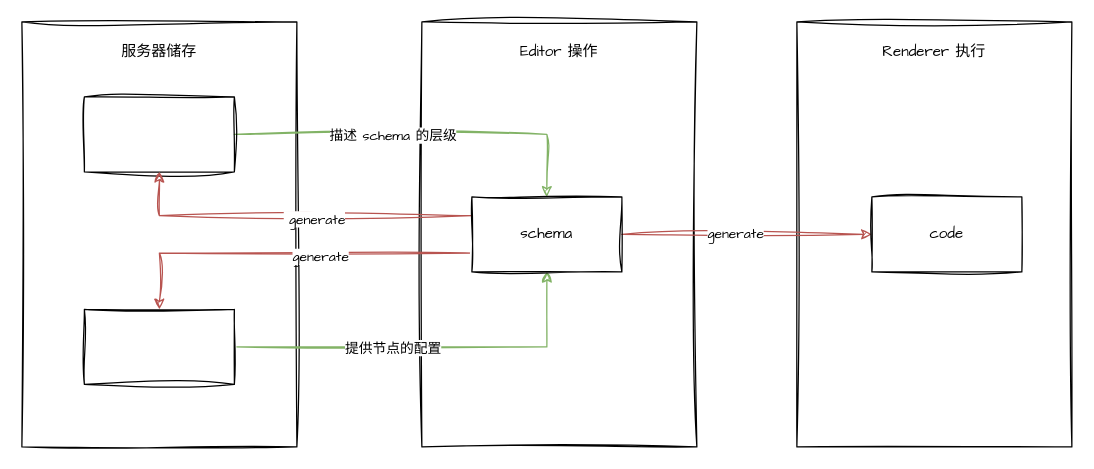
Image size: 1094x469. Some labels were removed from this diagram. The box of each missing label's shape, as (x1, y1, x2, y2) in pixels:
id tree: (83, 96, 234, 172)
nodes: (83, 308, 234, 384)
